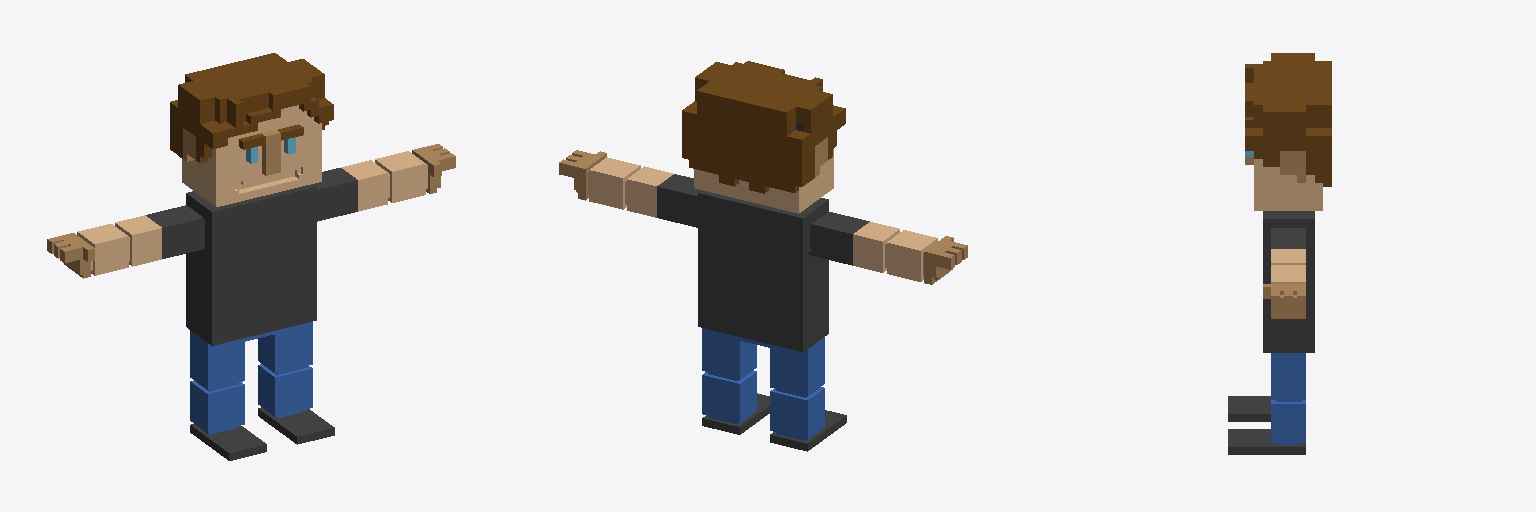
3 views of the same model, side by side, from view 1: azimuth 30°, elevation 25°; view 2: azimuth 150°, elevation 25°; view 3: azimuth 270°, elevation 25° (orthographic).
Parts seen in each view (by area): view 1: chr_01; view 2: chr_01; view 3: chr_01.
Boxes of the visible parts, <box> form: chr_01: <box>47,53,455,460</box>; chr_01: <box>559,61,967,451</box>; chr_01: <box>1228,53,1331,454</box>.
Bounding box in the file's own units: 104 × 88 × 24.
1 materials, 1 textured.